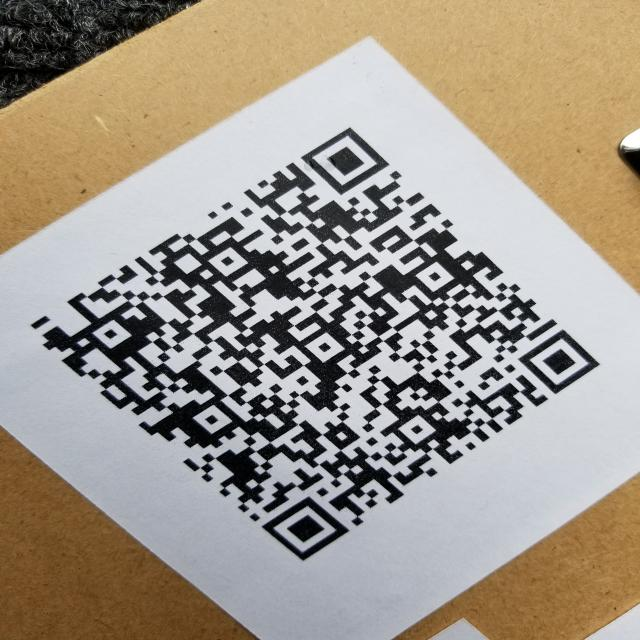QR_CODE: (15, 106, 613, 567)
